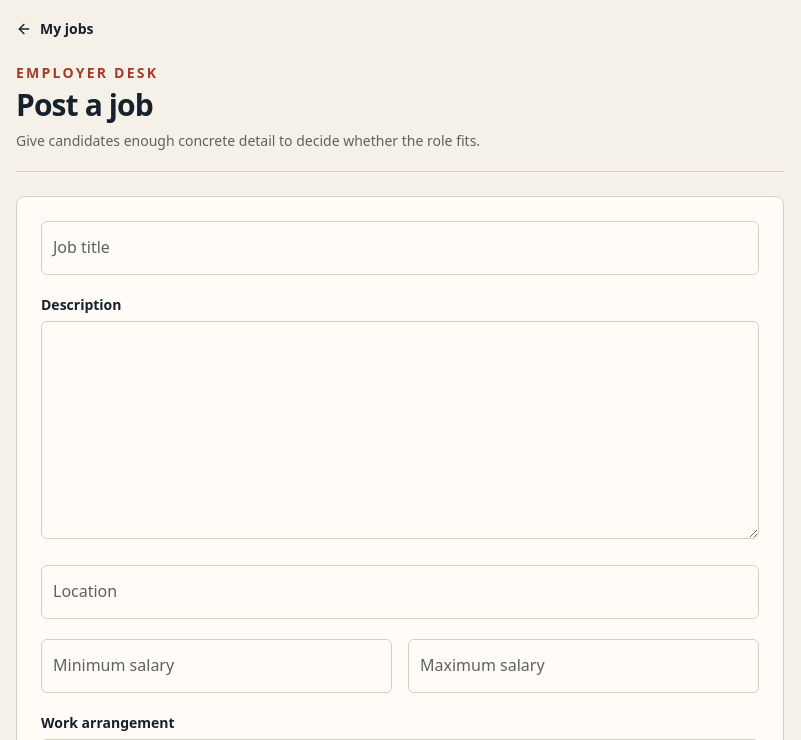
it: JobEditorPage › disables submission while a create request is pending
This screenshot has width=801, height=740.
Type "Backend Engineer" into the field labelled "Job title" at (400, 248), box [41,221,759,275]
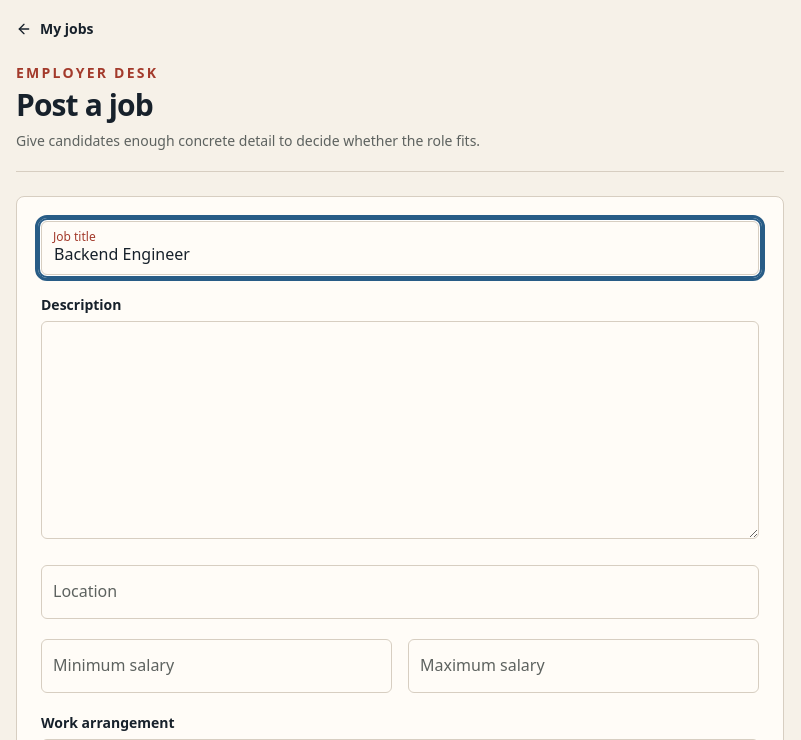
Type "Build reliable APIs" into the text box labelled "Description" at (400, 430), box [41,321,759,539]
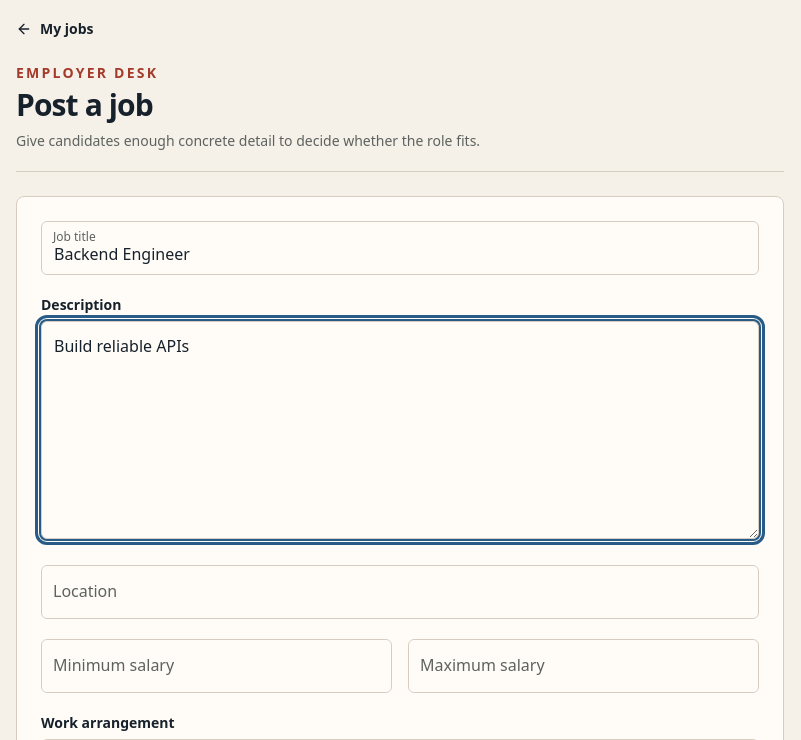
Type "Kochi" into the field labelled "Location" at (400, 592), box [41,565,759,619]
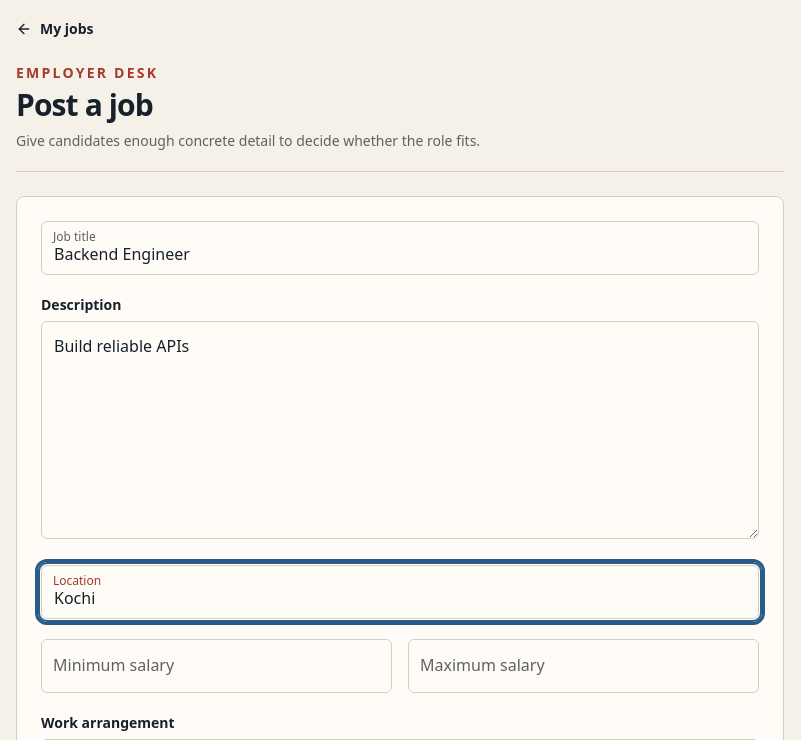
Type "50000" into the number field labelled "Minimum salary" at (216, 666), box [41,639,392,693]
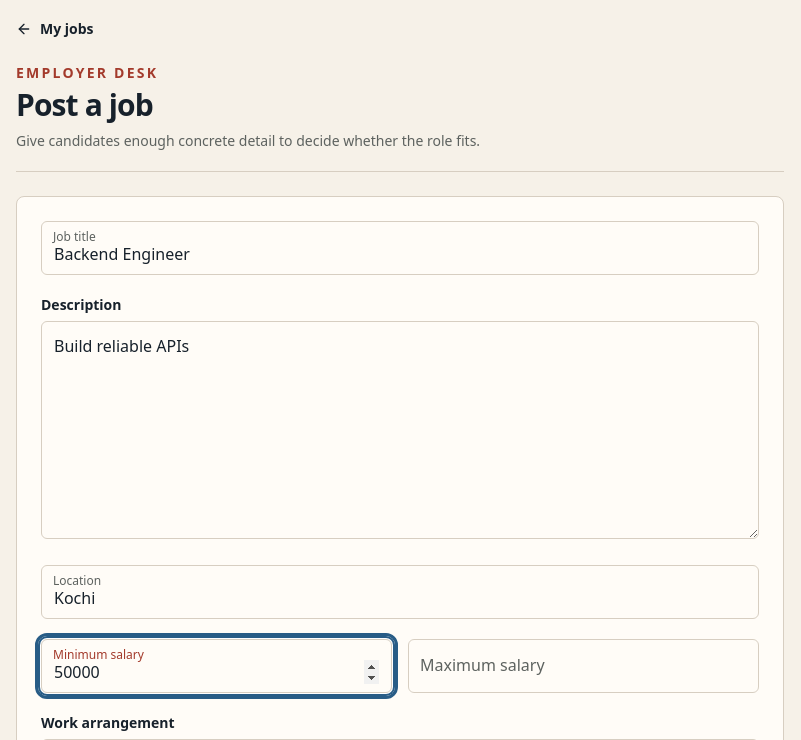
Type "80000" into the number field labelled "Maximum salary" at (584, 666), box [408,639,759,693]
(page scrolled)
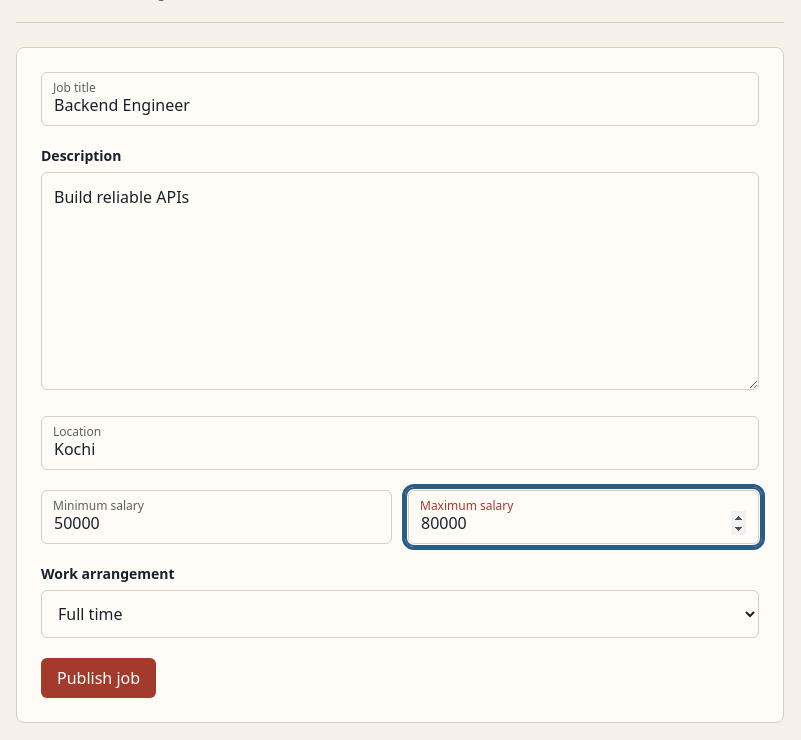
Click the button "Publish job" at (98, 678), box [41,658,156,698]
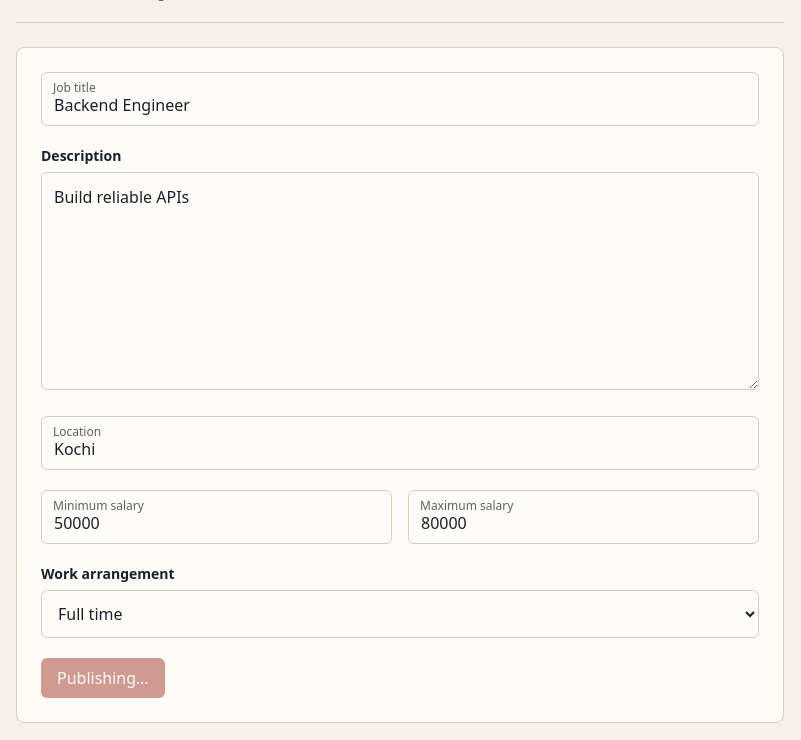
Now the button "Publishing…" is disabled, box [41,658,165,698]
